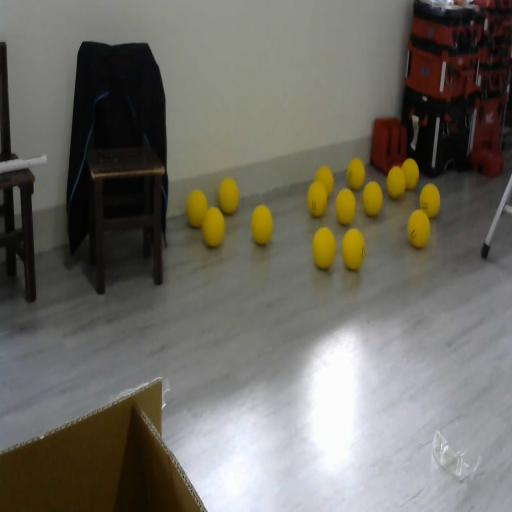FUEL: (201, 204, 226, 248), (341, 227, 366, 271), (312, 226, 336, 270), (250, 204, 274, 246), (407, 208, 431, 248), (186, 188, 208, 228), (362, 180, 384, 217), (335, 187, 356, 225), (218, 177, 239, 215), (420, 183, 440, 218), (315, 165, 334, 198), (401, 157, 420, 189), (347, 157, 365, 190)
